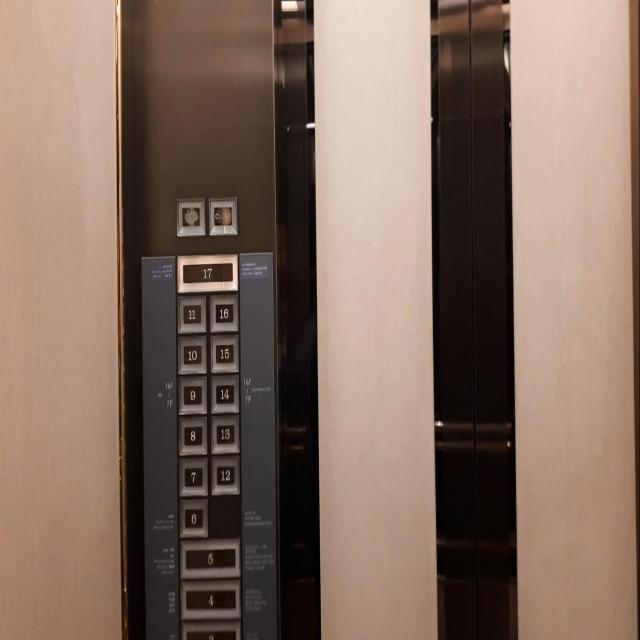10: (176, 333, 207, 375)
11: (176, 293, 207, 334)
12: (209, 453, 240, 498)
13: (209, 413, 240, 455)
14: (209, 373, 239, 415)
15: (209, 332, 239, 374)
16: (209, 292, 239, 332)
17: (175, 253, 239, 294)
4: (179, 579, 240, 620)
5: (178, 538, 241, 579)
6: (177, 497, 208, 539)
7: (178, 455, 208, 497)
8: (178, 415, 208, 457)
9: (176, 374, 208, 415)
blur: (174, 194, 206, 238)
text_close door: (207, 193, 239, 237)
